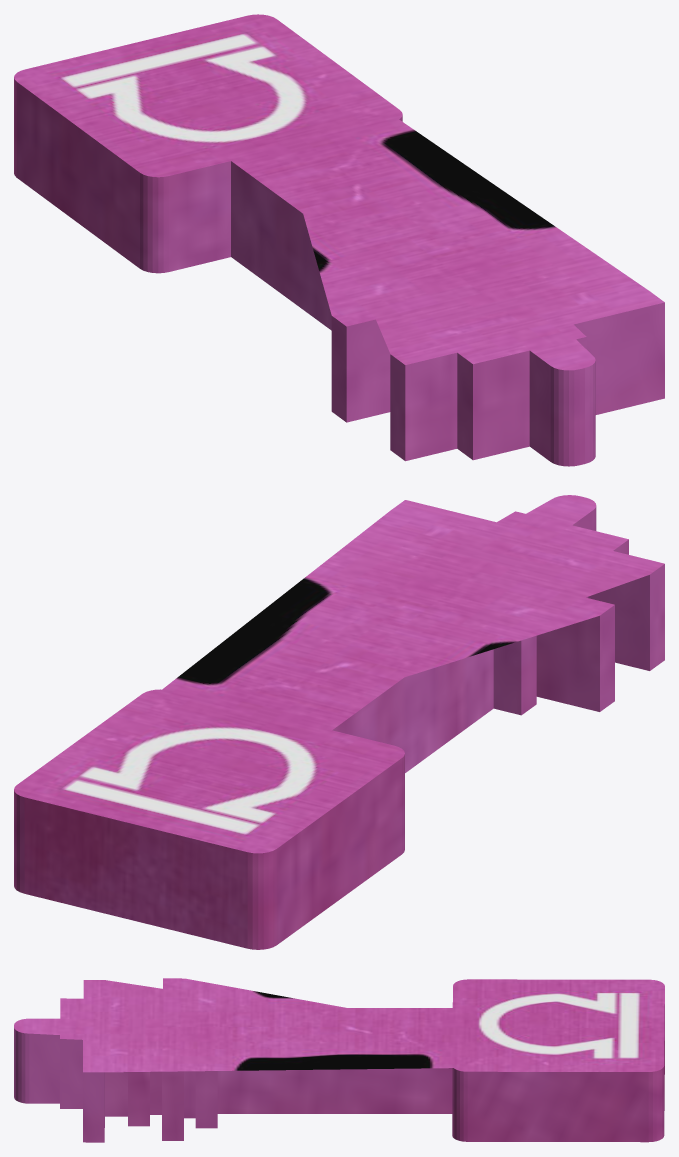
The model's file is Key1.fbx.
3 views of the same model, one above another, from view 1: azimuth 30°, elevation 25°; view 2: azimuth 150°, elevation 25°; view 3: azimuth 270°, elevation 25° (orthographic). The views are drawn at different scales.
Visible parts, largest first — view 1: Key1; view 2: Key1; view 3: Key1.
Part boxes in pixels (box(x1,y1,x2,y2)): Key1: box(14, 14, 664, 466); Key1: box(14, 495, 664, 949); Key1: box(14, 978, 664, 1142).
Bounding box in the file's own units: 2.87 × 1 × 8.41.
1 material, 1 textured.
